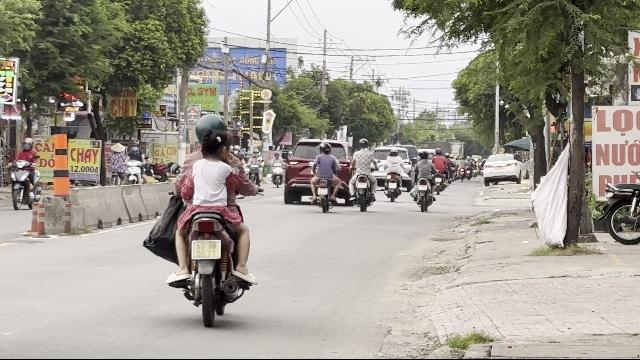helmet: (192, 113, 230, 141)
licenseplate: (192, 241, 220, 259)
motorcyclist: (154, 111, 258, 321)
nohelmet: (200, 130, 232, 162)
